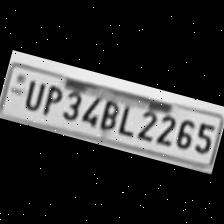2: (132, 104, 162, 142), (153, 108, 179, 146)
3: (56, 82, 86, 122)
4: (78, 88, 105, 128)
5: (190, 115, 218, 154)
6: (170, 112, 198, 150)
B: (94, 94, 122, 132)
L: (114, 100, 140, 136)
P: (39, 80, 64, 116)
U: (19, 73, 48, 111)
